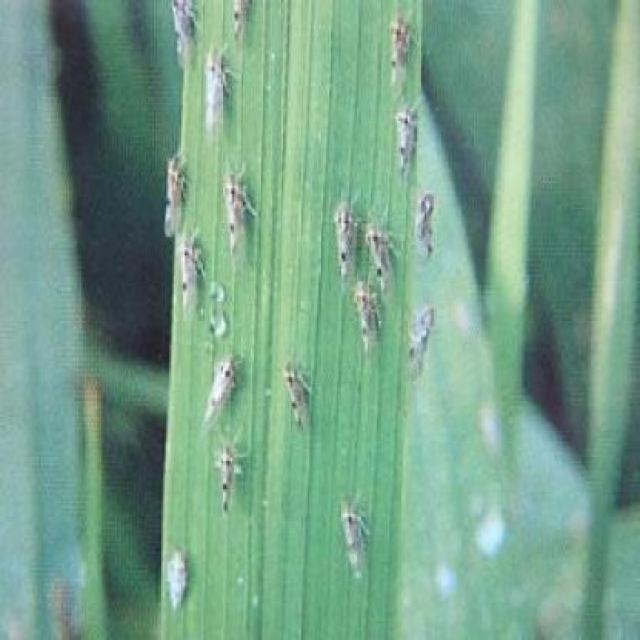brown-planthopper: (203, 362, 243, 431), (226, 166, 252, 260), (409, 303, 438, 380), (340, 500, 368, 577), (282, 360, 312, 431), (331, 202, 358, 280), (165, 151, 188, 235), (352, 285, 380, 352), (203, 54, 229, 124), (217, 438, 240, 516), (179, 236, 203, 306), (166, 551, 191, 615), (391, 15, 414, 83), (172, 3, 197, 60), (371, 226, 395, 285), (418, 200, 437, 266), (397, 104, 415, 168), (234, 3, 251, 45)
